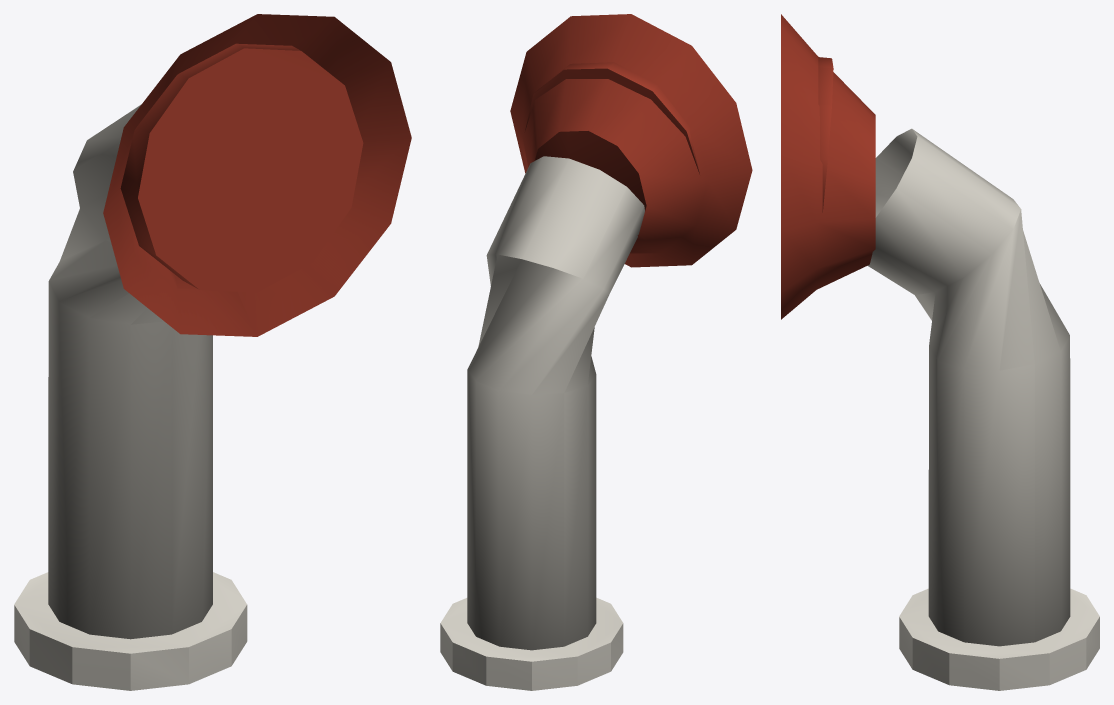
File: deck_vent.glb
3 renders of one model, left to right at view 1: azimuth 30°, elevation 25°; view 2: azimuth 150°, elevation 25°; view 3: azimuth 270°, elevation 25°, orthographic. The views are drawn at different scales.
Visible parts, largest first — view 1: deck_vent_mesh; view 2: deck_vent_mesh; view 3: deck_vent_mesh.
Boxes of the visible parts, x1=… form: deck_vent_mesh: x1=14, y1=14, x2=411, y2=690; deck_vent_mesh: x1=440, y1=14, x2=752, y2=690; deck_vent_mesh: x1=781, y1=14, x2=1099, y2=690.
Bounding box in the file's own units: 1.04 × 2.32 × 1.08.
